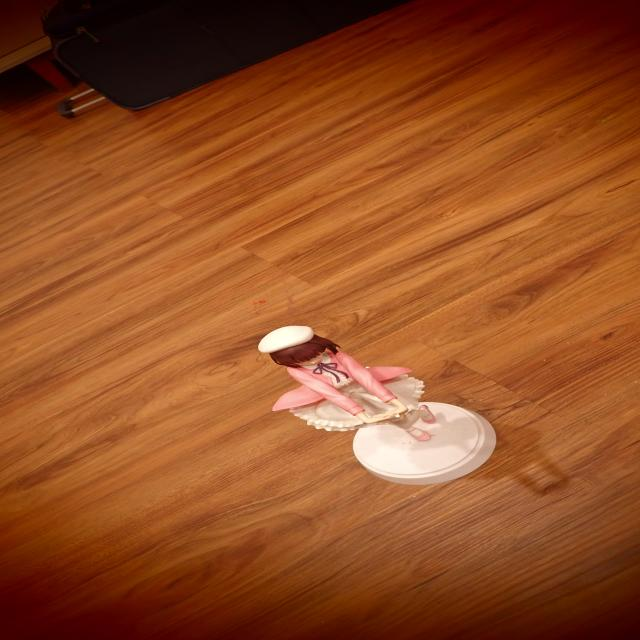My-pink-anime-figure: (259, 326, 435, 440)
